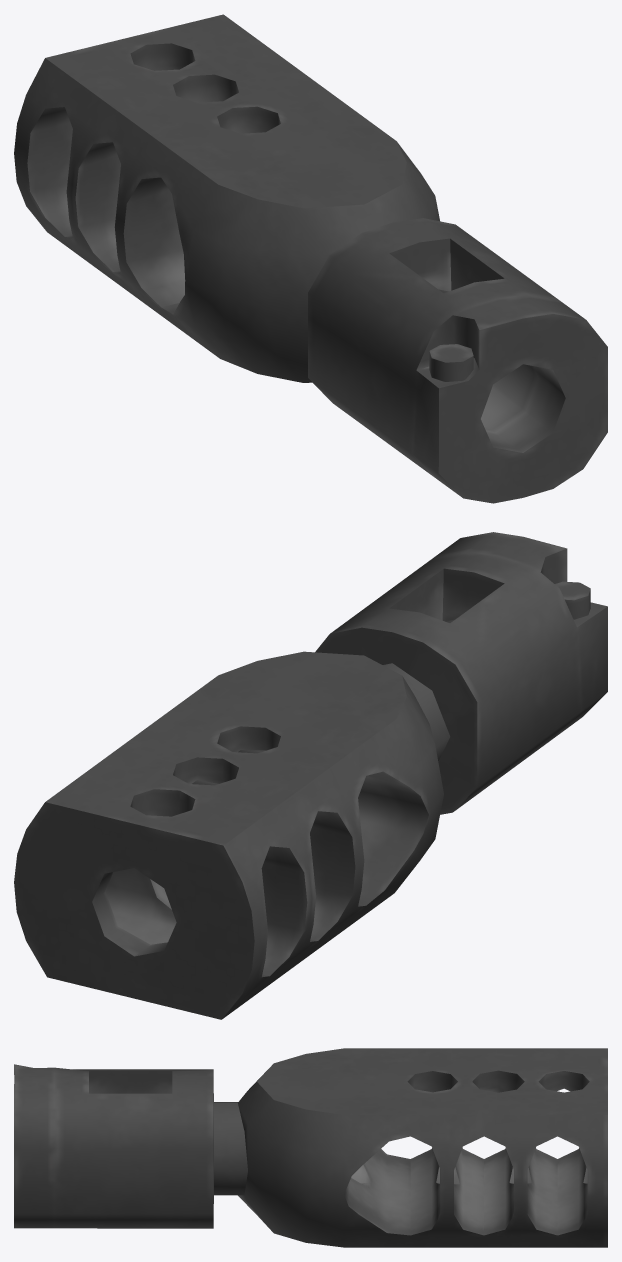
The model's file is IG_Acc_Muzzle_SNP_SCA_1.fbx.
The picture shows the model from 3 angles, top to bottom: view 1: azimuth 30°, elevation 25°; view 2: azimuth 150°, elevation 25°; view 3: azimuth 270°, elevation 25°; orthographic projection. The views are drawn at different scales.
Parts seen in each view (by area): view 1: Muzzle_SNP_SCA_1; view 2: Muzzle_SNP_SCA_1; view 3: Muzzle_SNP_SCA_1.
Part boxes in pixels (box(x1,y1,x2,y2)): Muzzle_SNP_SCA_1: box(14, 14, 607, 503); Muzzle_SNP_SCA_1: box(14, 532, 607, 1019); Muzzle_SNP_SCA_1: box(14, 1048, 607, 1247).
Size of the model in its own units: 0.0677 by 0.0477 by 0.1871.
